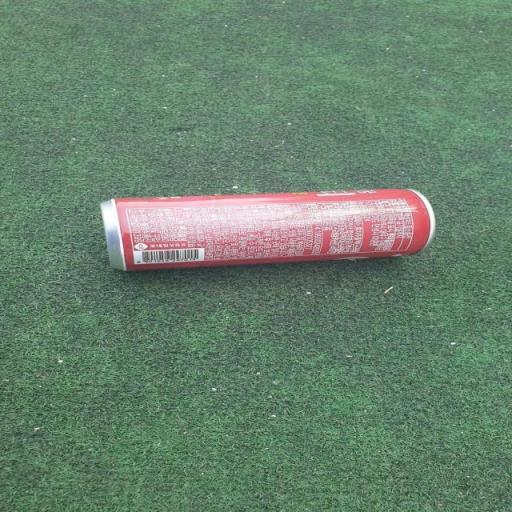metal: (50, 166, 482, 290)
